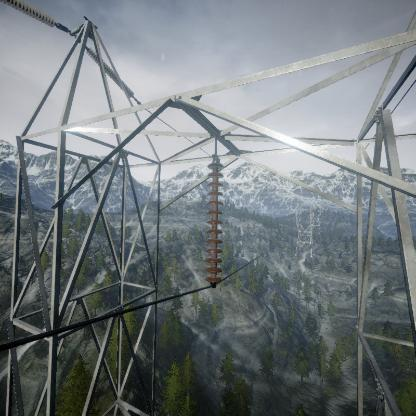insulator: (205, 155, 225, 287)
tower: (291, 202, 315, 259)
